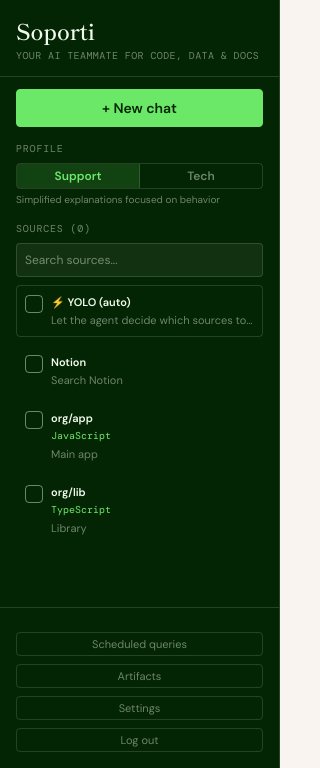
Test case: Sidebar › filters repos by language
Expected: the text "org/app" is shown, [51, 411, 93, 425]
Type "typescript" into the field with placeholder "Search sources...".
click(140, 260); type("typescript")  # box [16, 243, 263, 277]
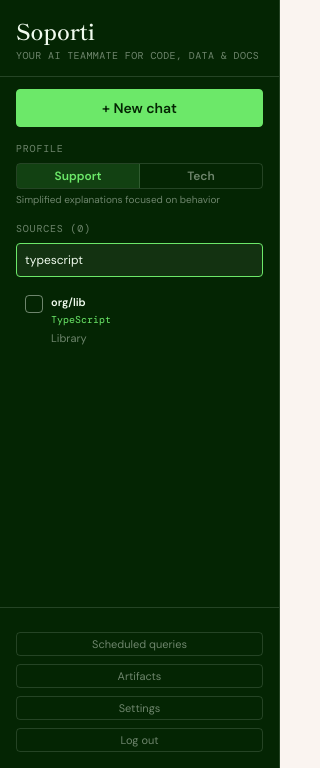
Expected: the text "org/lib" is shown, [51, 295, 86, 309]
Now the text "org/app" is gone
